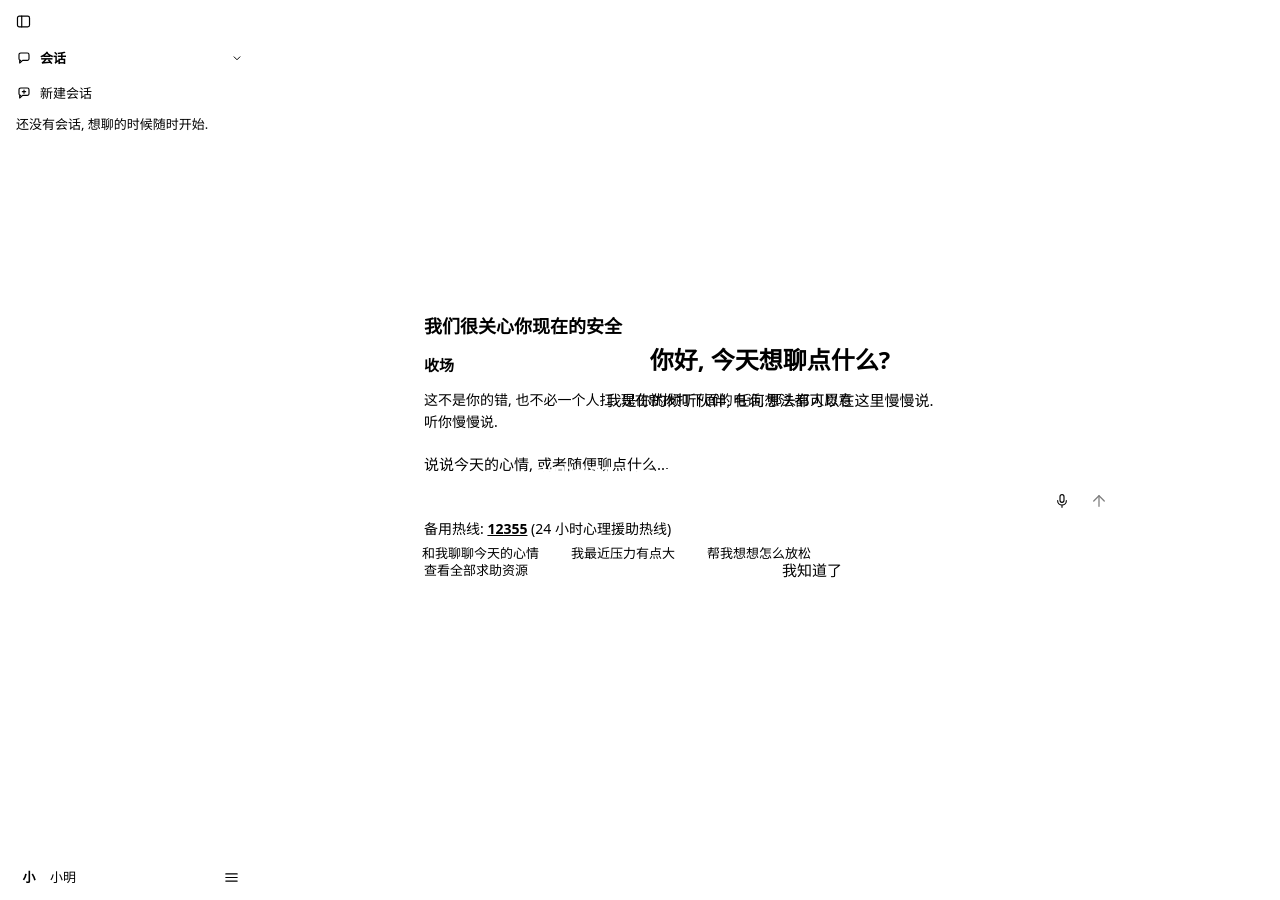
Test: App (壳与路由 v2) › RED 显式"我知道了"收场: 哨兵收栈干净 — RED 卸载, 模块计数归零
Expected: the dialog is shown, [424,314,856,588]
What coordinates should you click on to do the following:
click the button "我知道了"
I would click on:
 (812, 570)
Its box is [768,552,856,588].
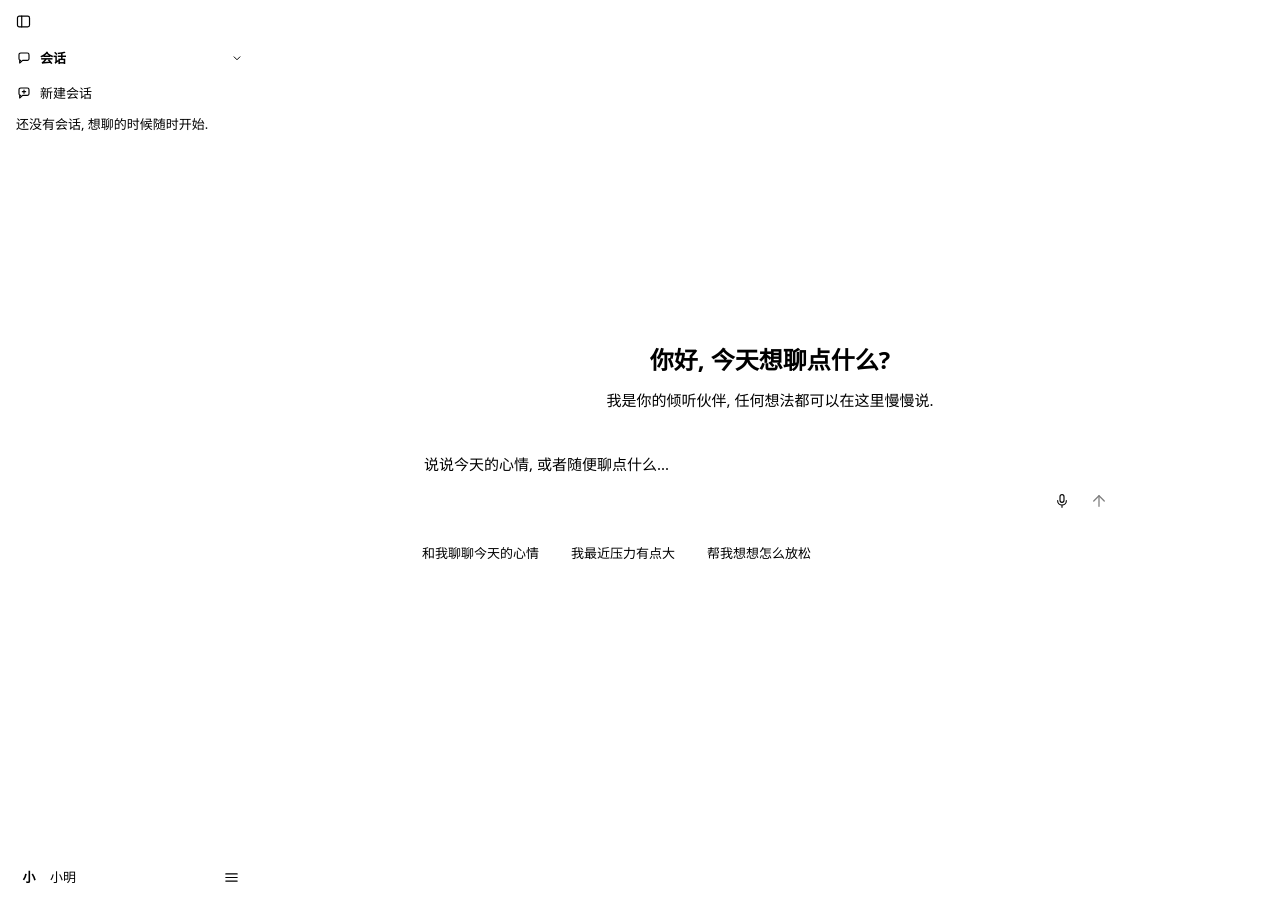
Result: the dialog is gone
